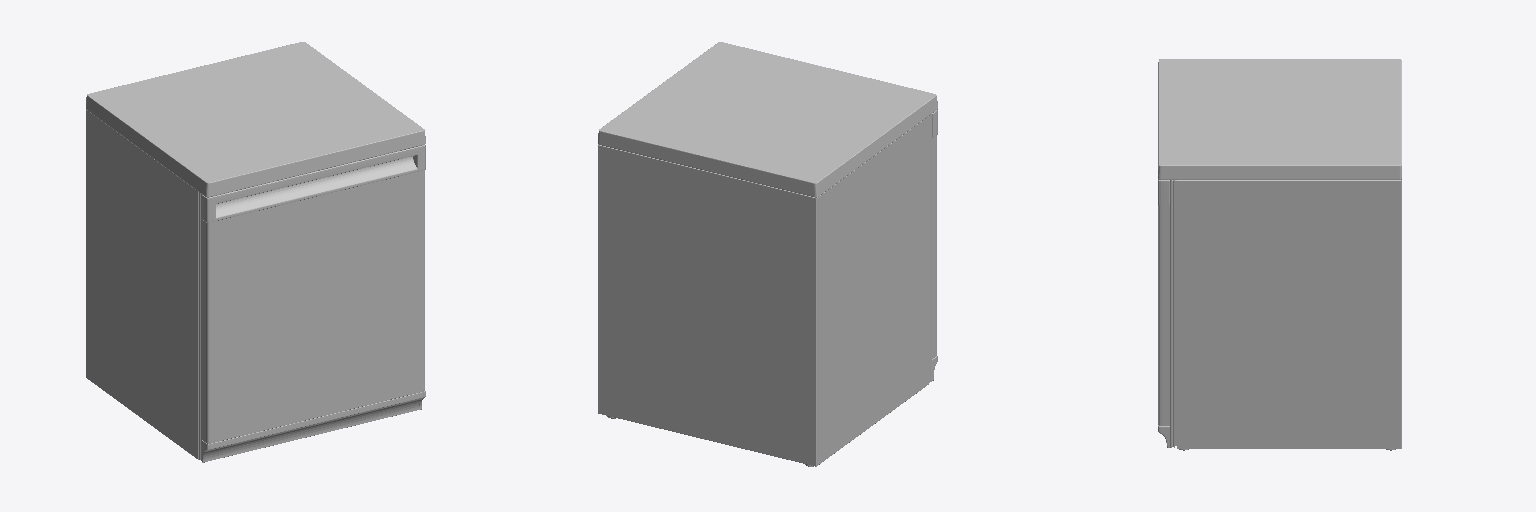
The model's file is refrigerator close.obj.
3 renders of one model, left to right at view 1: azimuth 30°, elevation 25°; view 2: azimuth 150°, elevation 25°; view 3: azimuth 270°, elevation 25°, orthographic.
Visible parts, largest first — view 1: Box046, Box051, Object004, Box045, Box050, Rectangle001; view 2: Object004, Box051, Box046, Rectangle001; view 3: Object004, Box051, Box046, Rectangle001.
Boxes of the visible parts, x1=… form: Box046: x1=202, y1=170, x2=424, y2=443; Box051: x1=86, y1=42, x2=425, y2=197; Object004: x1=86, y1=110, x2=198, y2=459; Box045: x1=202, y1=145, x2=425, y2=222; Box050: x1=201, y1=391, x2=425, y2=462; Rectangle001: x1=199, y1=192, x2=201, y2=459; Object004: x1=598, y1=116, x2=928, y2=466; Box051: x1=598, y1=42, x2=937, y2=197; Box046: x1=932, y1=136, x2=936, y2=358; Rectangle001: x1=929, y1=114, x2=931, y2=382; Object004: x1=1177, y1=180, x2=1401, y2=448; Box051: x1=1158, y1=59, x2=1401, y2=179; Box046: x1=1158, y1=205, x2=1169, y2=425; Rectangle001: x1=1170, y1=180, x2=1176, y2=447.
Bounding box in the file's own units: 479 × 598 × 460.